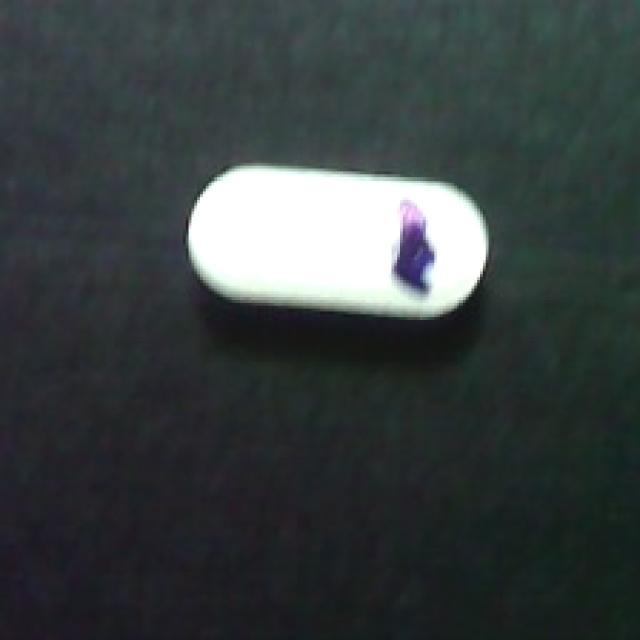defected: (180, 163, 497, 334)
